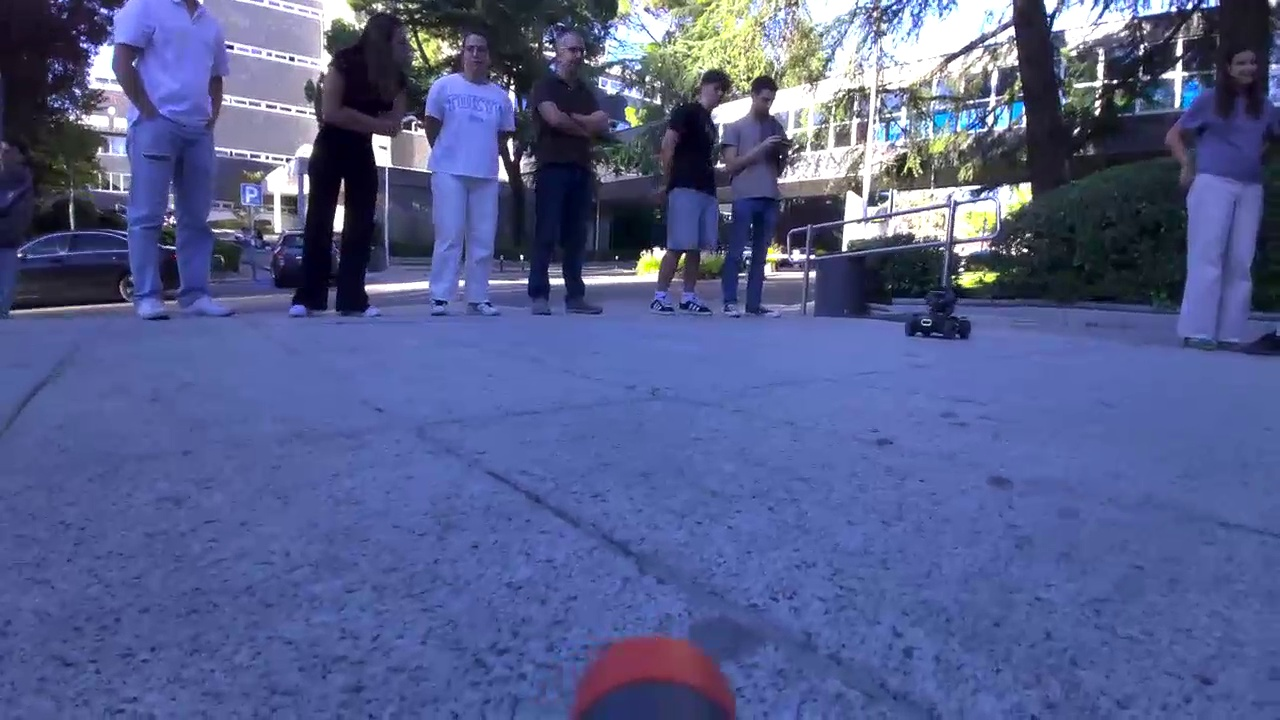robot: (904, 288, 971, 341)
